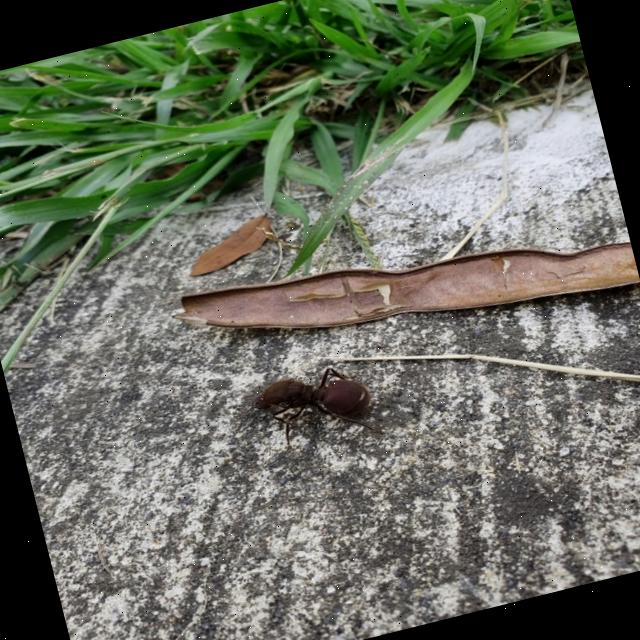Alive-Female-Dealate: (248, 356, 383, 457)
